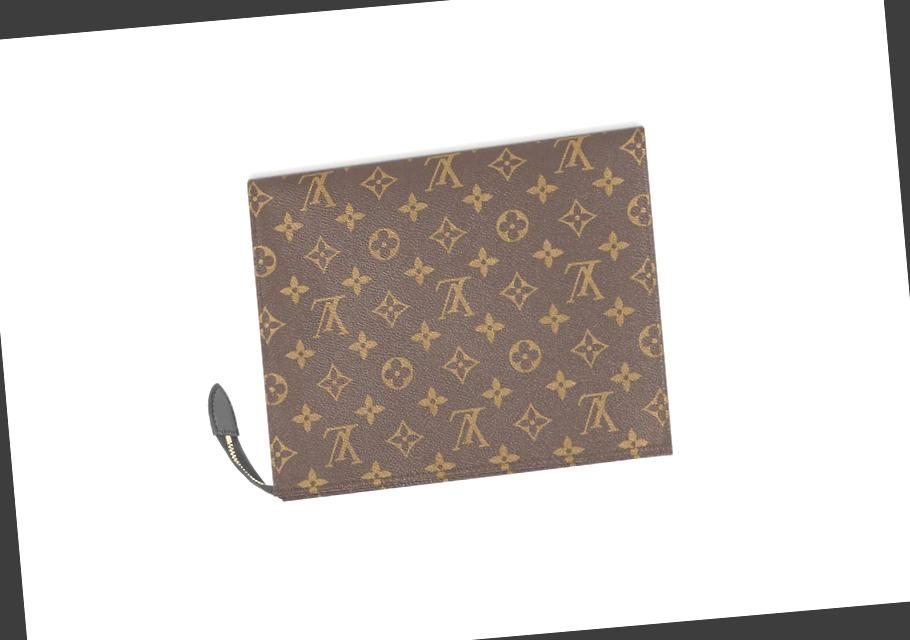LOUIS-VUITTON: (228, 121, 682, 497)
